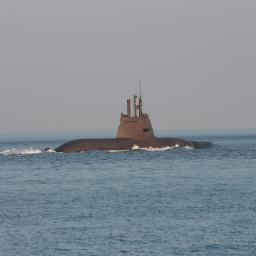submarine: (45, 93, 216, 154)
